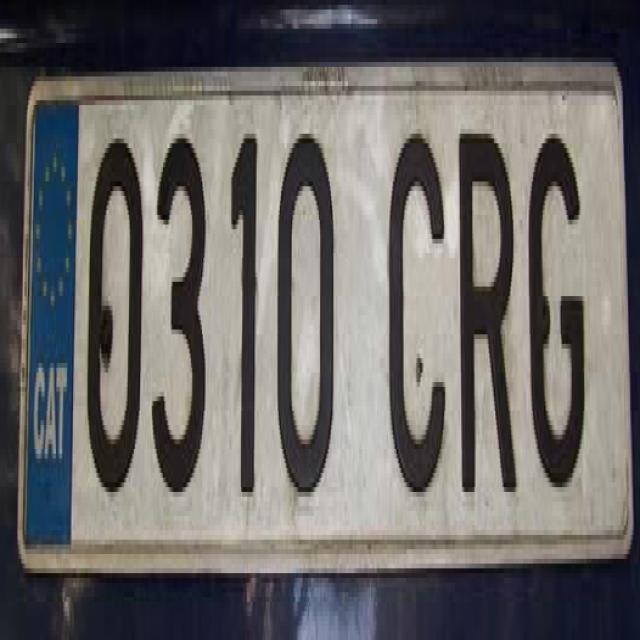EU: (19, 77, 634, 539), (19, 99, 79, 550)
